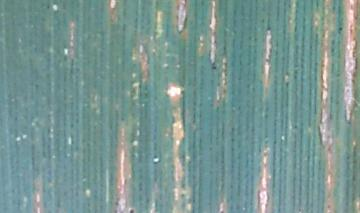tarspot: (337, 23, 345, 34), (210, 63, 219, 70), (127, 207, 137, 213), (265, 25, 273, 32)
